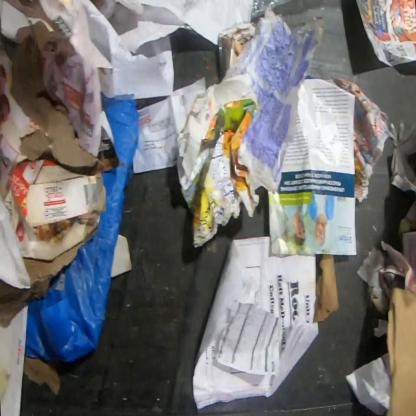cardboard: (0, 41, 107, 261), (385, 286, 415, 415)
soft_plastic: (23, 90, 141, 365), (251, 0, 292, 21)
